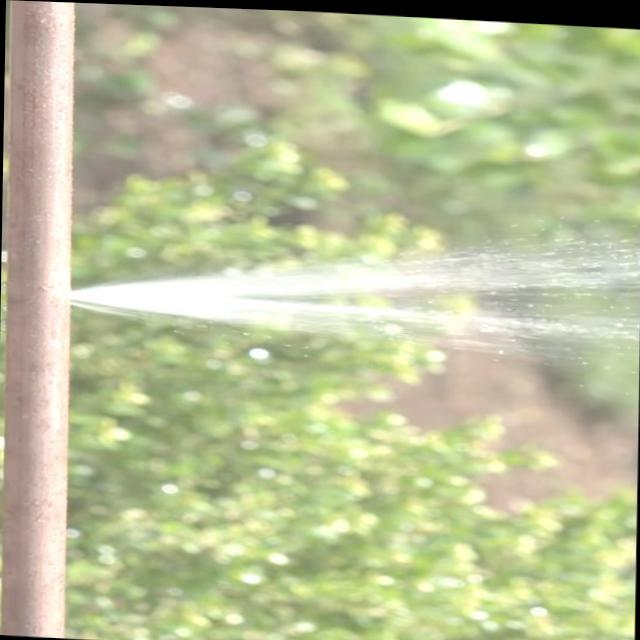leak: (70, 240, 640, 357)
